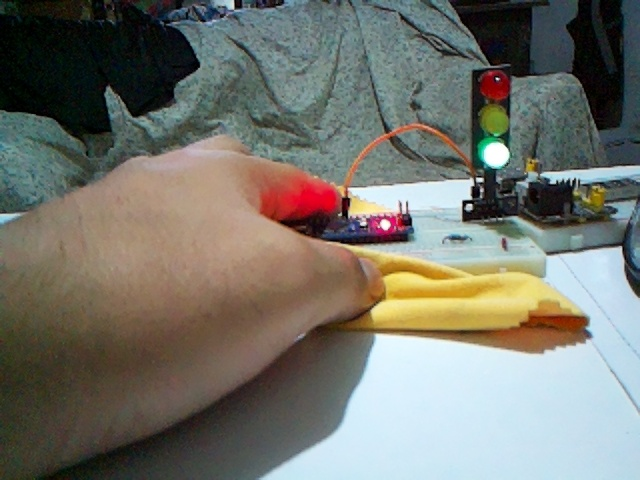traffic_light_green: (471, 65, 511, 171)
